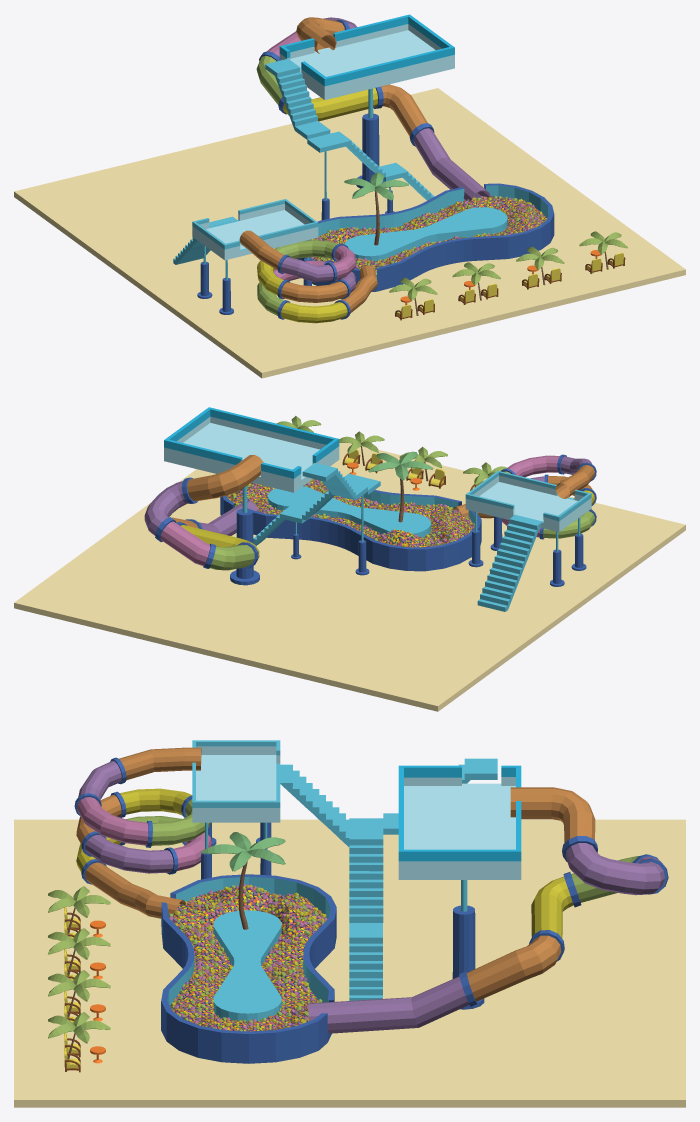
Rendered from D2_NERDS_POOL.fbx.
The picture shows the model from 3 angles, top to bottom: view 1: azimuth 30°, elevation 25°; view 2: azimuth 150°, elevation 25°; view 3: azimuth 270°, elevation 25°; orthographic projection. The views are drawn at different scales.
Visible parts, largest first — view 1: Plane.046, Cube.141, Circle, Cube.134, Plane.044, Cube.136, Cylinder.086, Plane.045, Cube.135, Cube.140, Cylinder.139, Cube.139 (+4 smaller); view 2: Plane.046, Cube.141, Plane.044, Cube.134, Cube.136, Plane.045, Circle, Cube.137, Cube.135, Cylinder.086, Cylinder.136, Cube.140 (+5 smaller); view 3: Plane.046, Plane.044, Circle, Cube.141, Plane.045, Cube.134, Cube.136, Cylinder.086, Cube.135, Cube.139, Cube.138, Cube.137 (+4 smaller).
Boxes of the visible parts, left/top/right/bottom form: Plane.046: left=14, top=88, right=685, bottom=378; Cube.141: left=279, top=14, right=454, bottom=99; Circle: left=239, top=230, right=377, bottom=323; Cube.134: left=297, top=183, right=554, bottom=291; Plane.044: left=256, top=17, right=490, bottom=201; Cube.136: left=192, top=199, right=318, bottom=260; Cylinder.086: left=389, top=231, right=627, bottom=320; Plane.045: left=309, top=196, right=546, bottom=277; Cube.135: left=344, top=207, right=507, bottom=261; Cube.140: left=265, top=58, right=330, bottom=139; Cylinder.139: left=356, top=88, right=385, bottom=188; Cube.139: left=307, top=131, right=385, bottom=177; Plane.046: left=14, top=443, right=685, bottom=711; Cube.141: left=164, top=407, right=339, bottom=492; Plane.044: left=144, top=455, right=263, bottom=570; Cube.134: left=220, top=480, right=481, bottom=571; Cube.136: left=465, top=470, right=591, bottom=531; Plane.045: left=227, top=479, right=474, bottom=547; Circle: left=452, top=454, right=596, bottom=539; Cube.137: left=477, top=515, right=541, bottom=611; Cube.135: left=267, top=486, right=431, bottom=537; Cylinder.086: left=276, top=416, right=506, bottom=490; Cylinder.136: left=468, top=512, right=586, bottom=586; Cube.140: left=302, top=463, right=367, bottom=500; Plane.046: left=14, top=819, right=685, bottom=1107; Plane.044: left=308, top=787, right=668, bottom=1033; Circle: left=74, top=747, right=211, bottom=918; Cube.141: left=398, top=765, right=521, bottom=879; Plane.045: left=168, top=884, right=327, bottom=1031; Cube.134: left=161, top=874, right=336, bottom=1063; Cube.136: left=192, top=740, right=280, bottom=822; Cylinder.086: left=48, top=886, right=110, bottom=1072; Cube.135: left=213, top=910, right=281, bottom=1021; Cube.139: left=349, top=818, right=383, bottom=922; Cube.138: left=349, top=923, right=382, bottom=1000; Cube.137: left=279, top=764, right=349, bottom=847.
Size of the model in its own units: 4700 by 1580 by 4759.
Materials: 16 (1 with a texture image).
